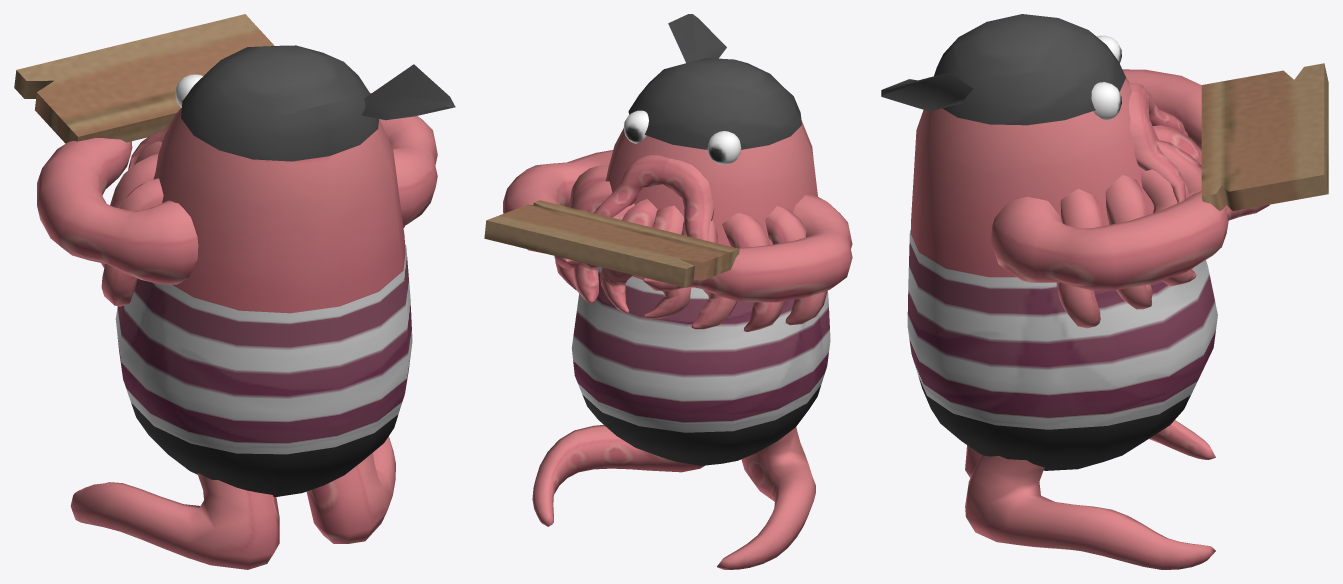
Rendered from tako_idle_c_04.fbx.
3 renders of one model, left to right at view 1: azimuth 30°, elevation 25°; view 2: azimuth 150°, elevation 25°; view 3: azimuth 270°, elevation 25°, orthographic. The views are drawn at different scales.
Visible parts, largest first — view 1: I_c_04; view 2: I_c_04; view 3: I_c_04.
Part boxes in pixels (left/top/right/bottom): I_c_04: left=14, top=14, right=455, bottom=569; I_c_04: left=484, top=14, right=852, bottom=569; I_c_04: left=881, top=14, right=1328, bottom=569.
Bounding box in the file's own units: 1.38 × 1.71 × 1.43.
Materials: 1 (1 with a texture image).
